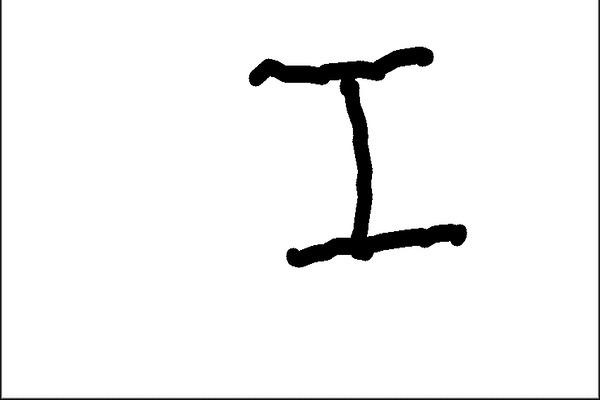i: (241, 43, 475, 273)
